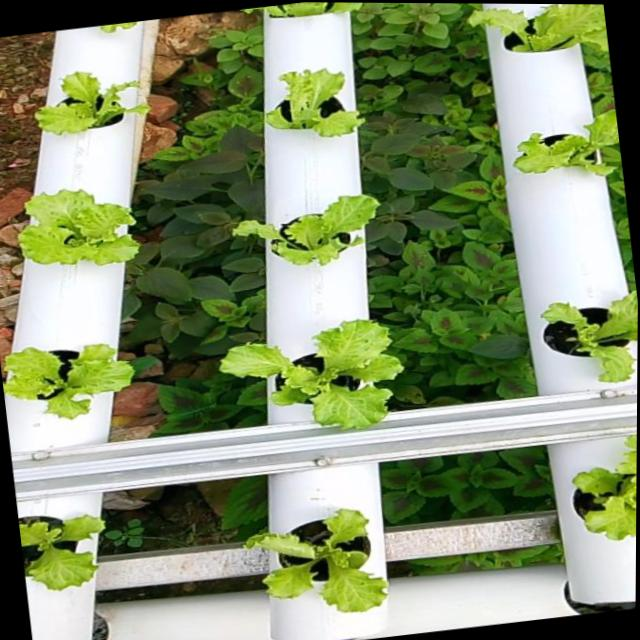Baby: (211, 323, 392, 430), (235, 509, 377, 612), (527, 290, 638, 385), (224, 200, 369, 269), (0, 347, 127, 421), (11, 195, 133, 270), (458, 4, 608, 60), (558, 435, 637, 539), (500, 113, 619, 182), (29, 78, 142, 141), (256, 76, 354, 143), (19, 516, 96, 591)
